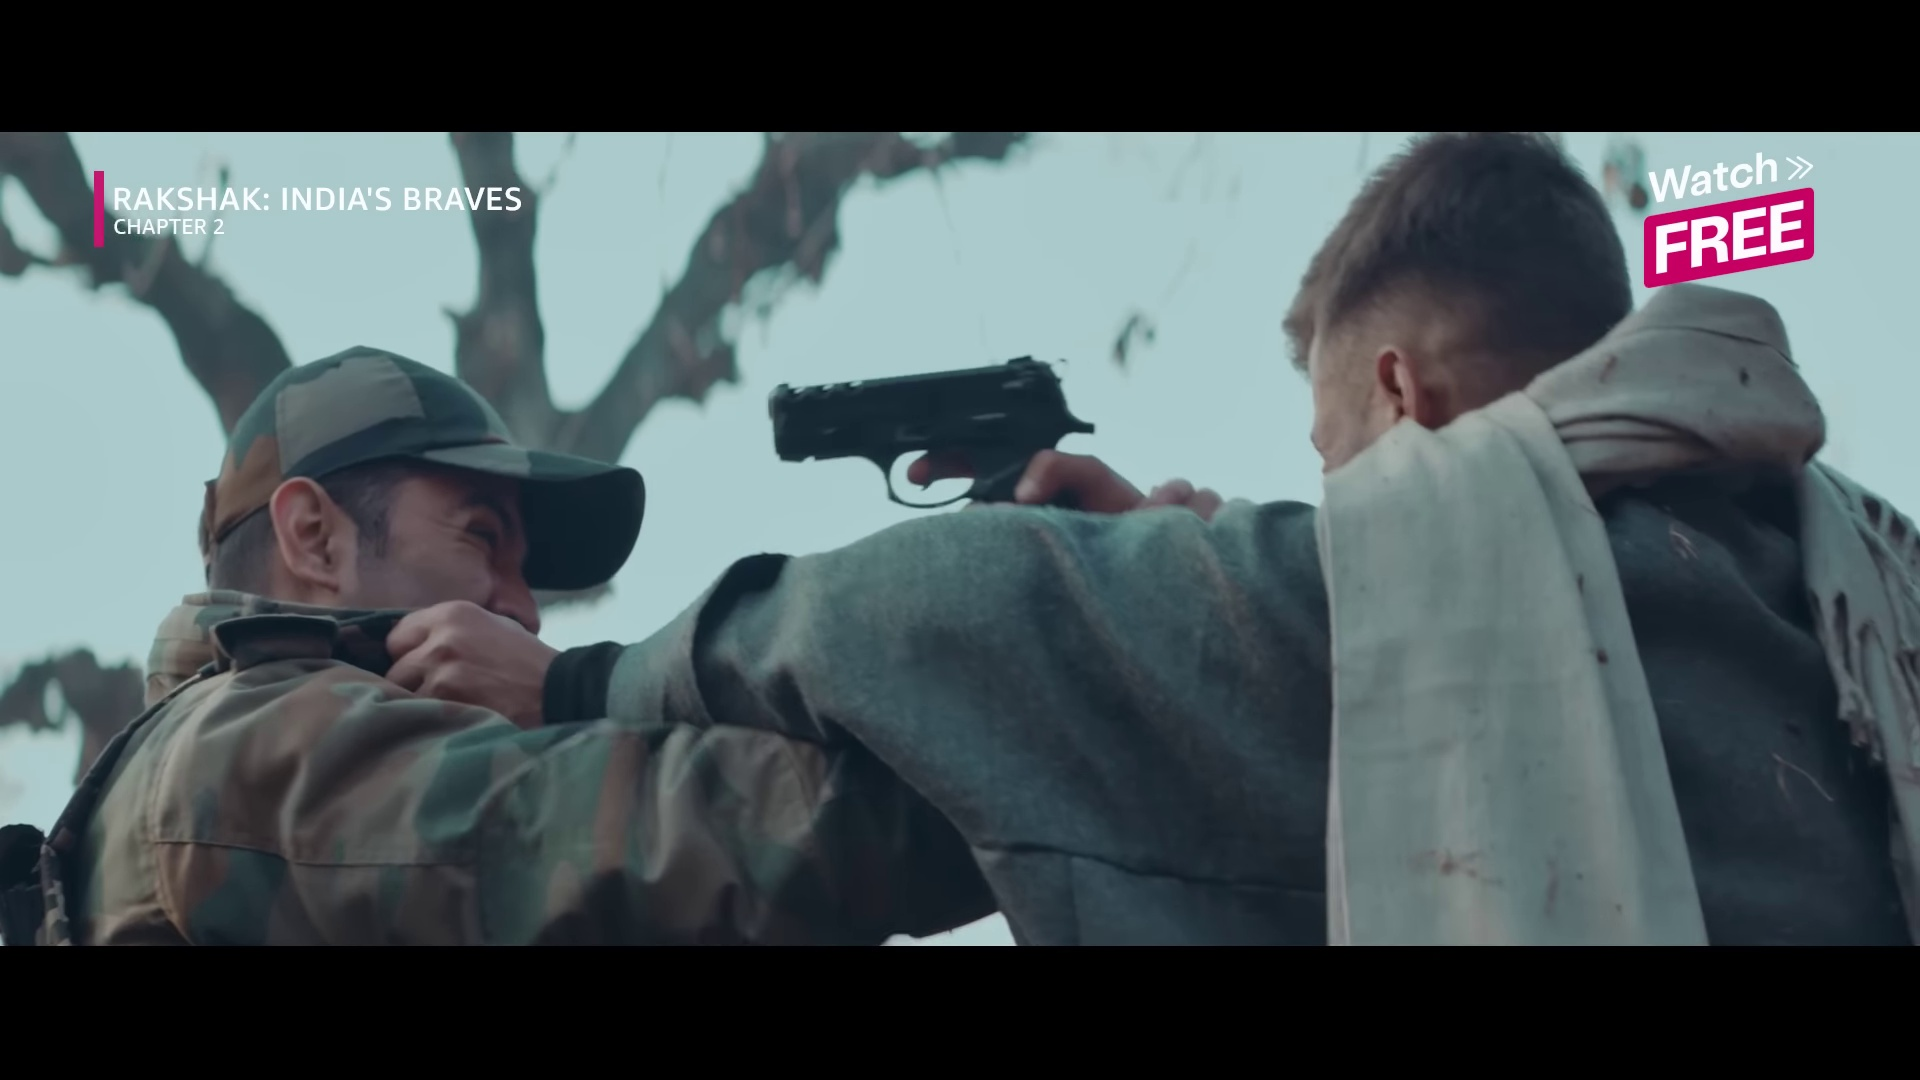gun: (766, 344, 1109, 518)
p_w_gun: (373, 129, 1920, 951)
p_wo_gun_not_carrying_normal_pose: (0, 330, 1013, 942)
